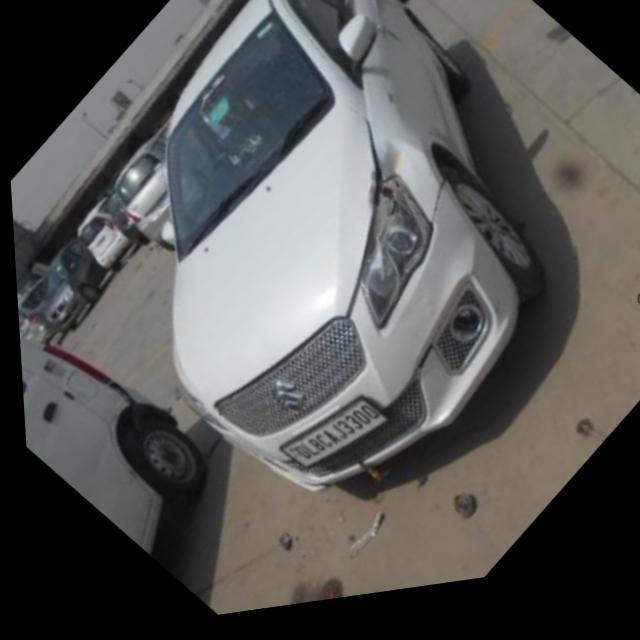dent: (382, 148, 426, 188)
dislocated part: (363, 126, 406, 218), (397, 347, 434, 389)
